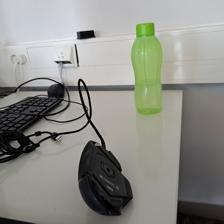mouse: (76, 139, 133, 217)
